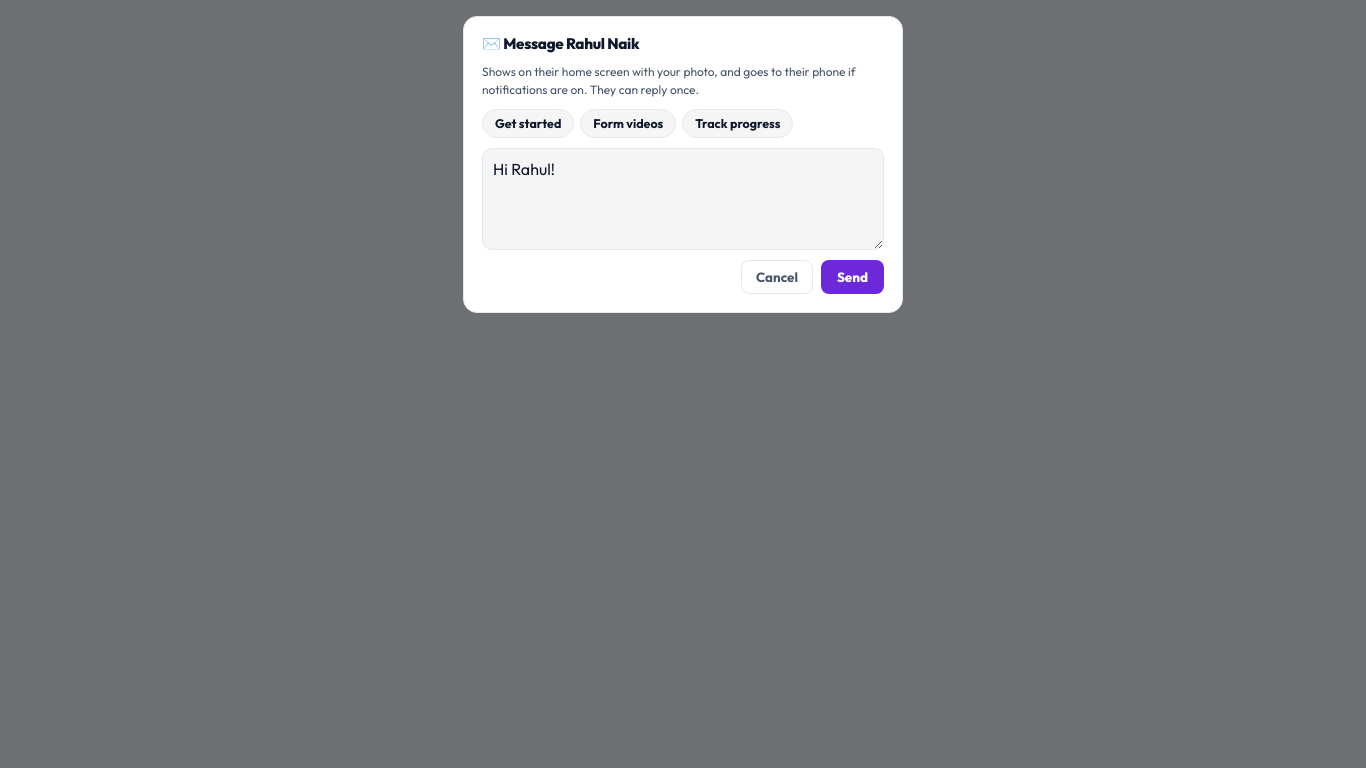
Test case: FounderMessageComposer › sends the message and pushes it to the client
Replace the text in the text box named "Message" with "Hi Rahul! Need help with step 2?": (683, 199) [482, 148, 884, 250]
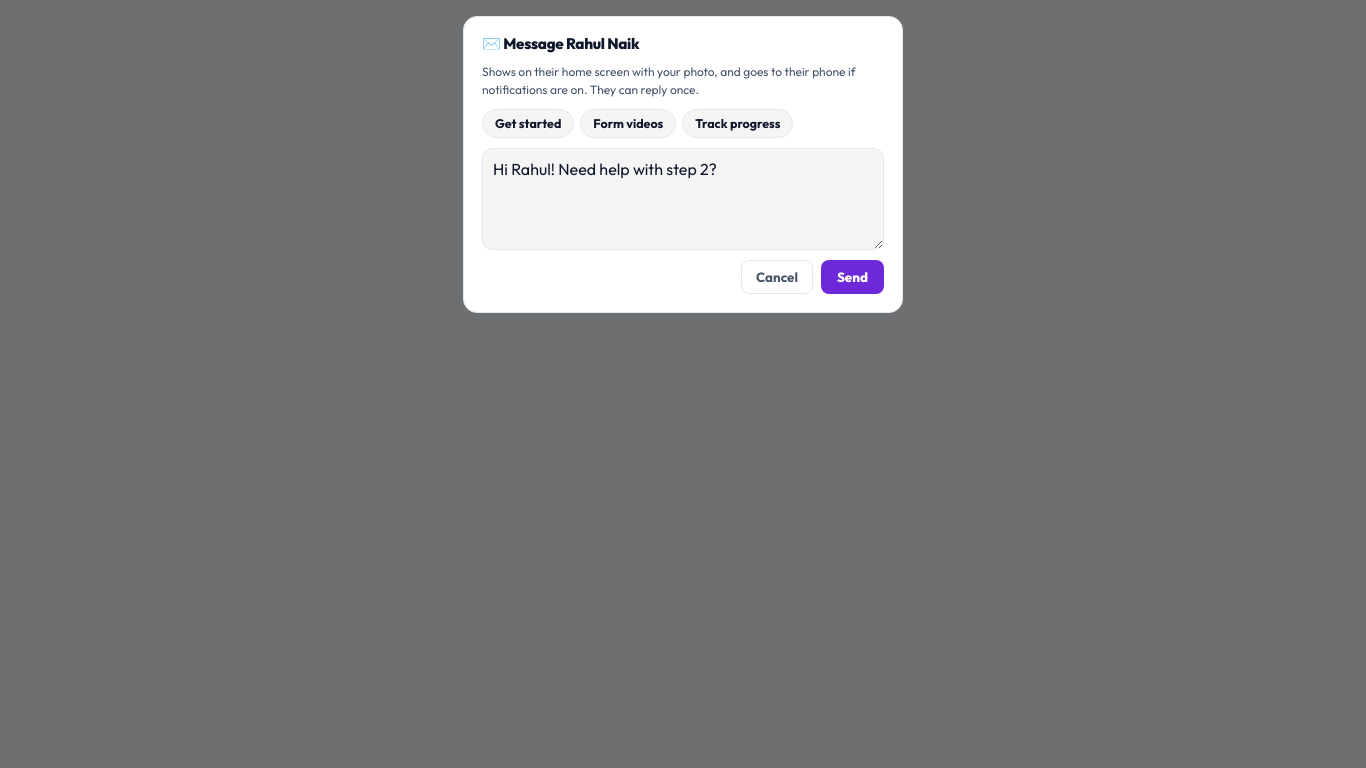
Click the button "Send": (852, 277) [821, 260, 884, 294]
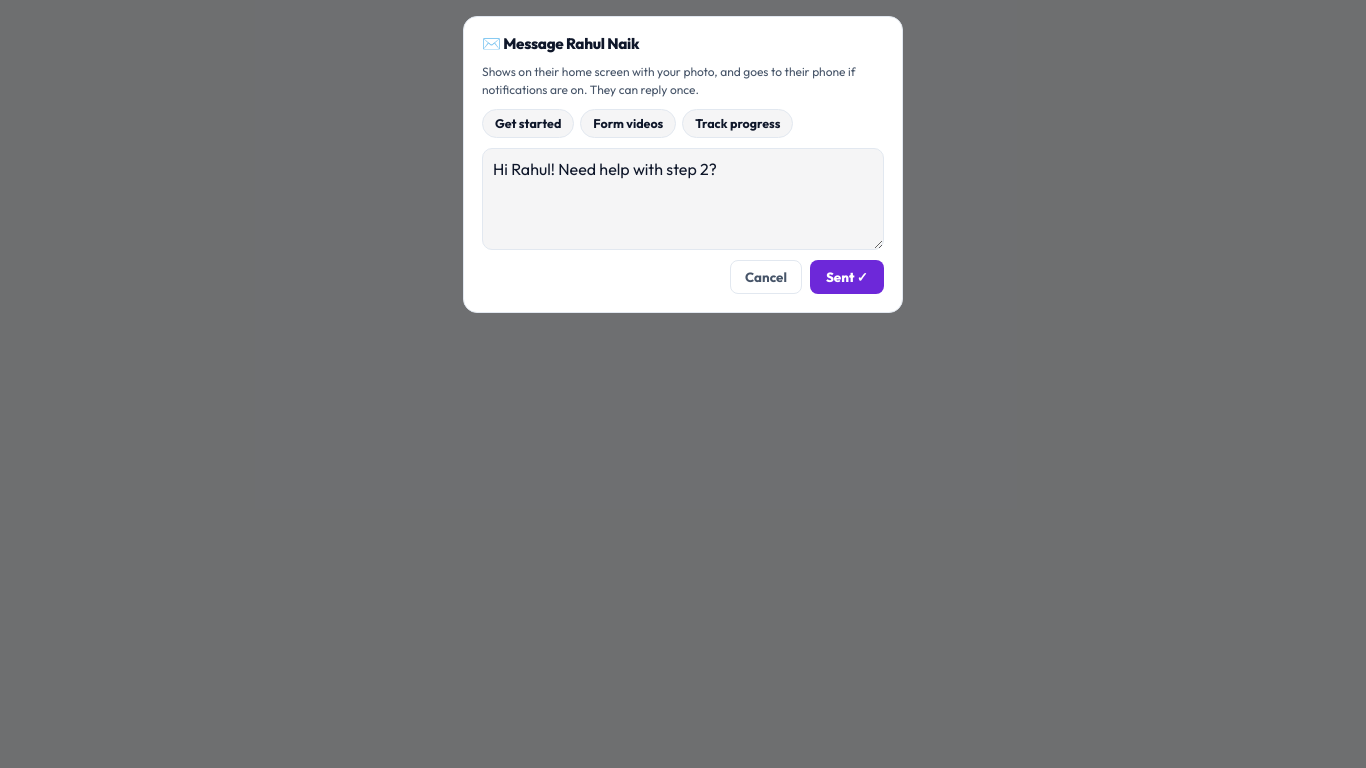
Expected: the button "Sent ✓" is shown, [810, 260, 884, 294]
